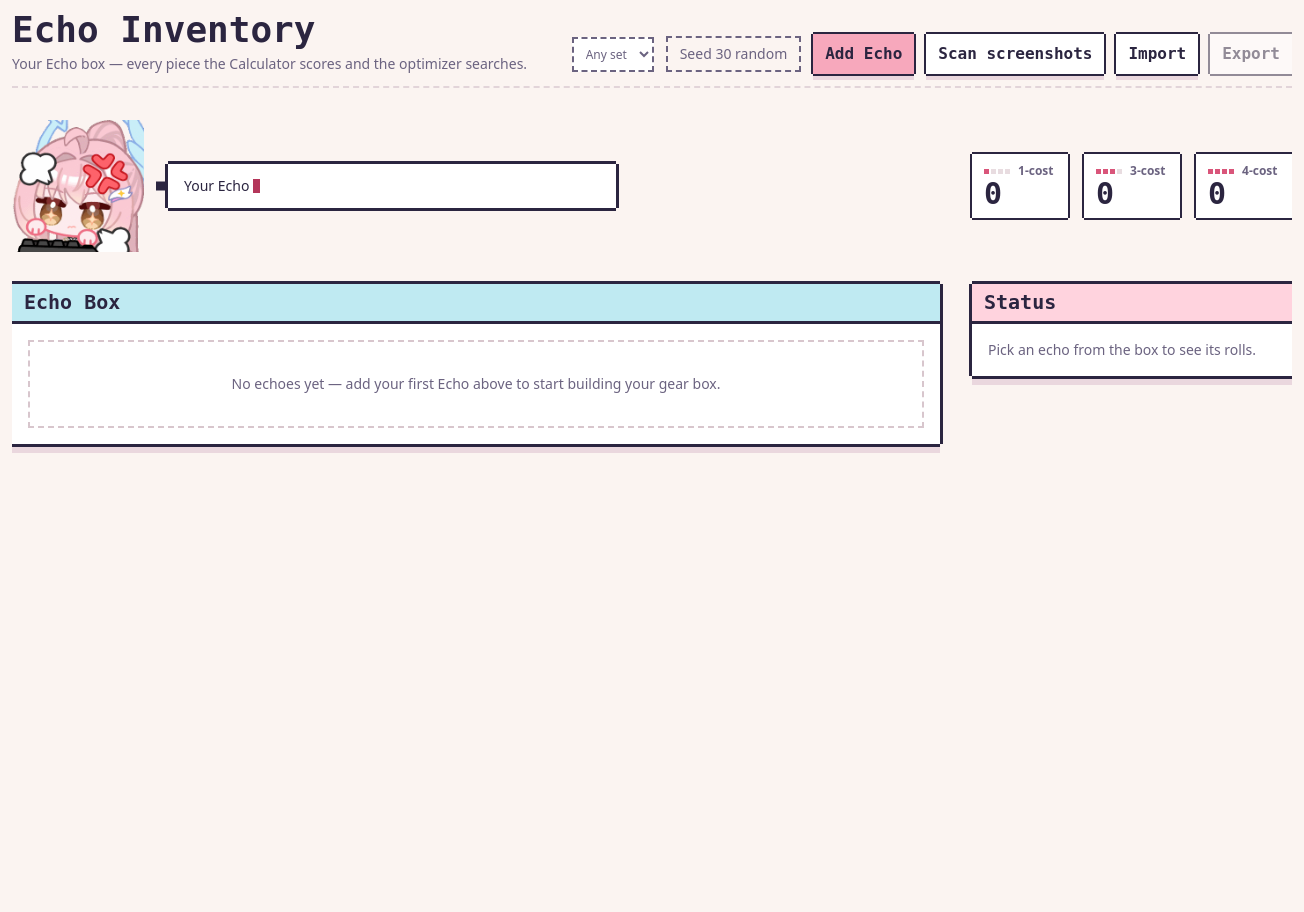
it: InventoryPage › shows errors and writes nothing when no Echo is picked
This screenshot has width=1304, height=912.
Expected: the text "No echoes yet" is shown, x1=232 y1=374 x2=720 y2=393
Click the button "Add Echo" at (864, 54), box x1=813 y1=34 x2=914 y2=74
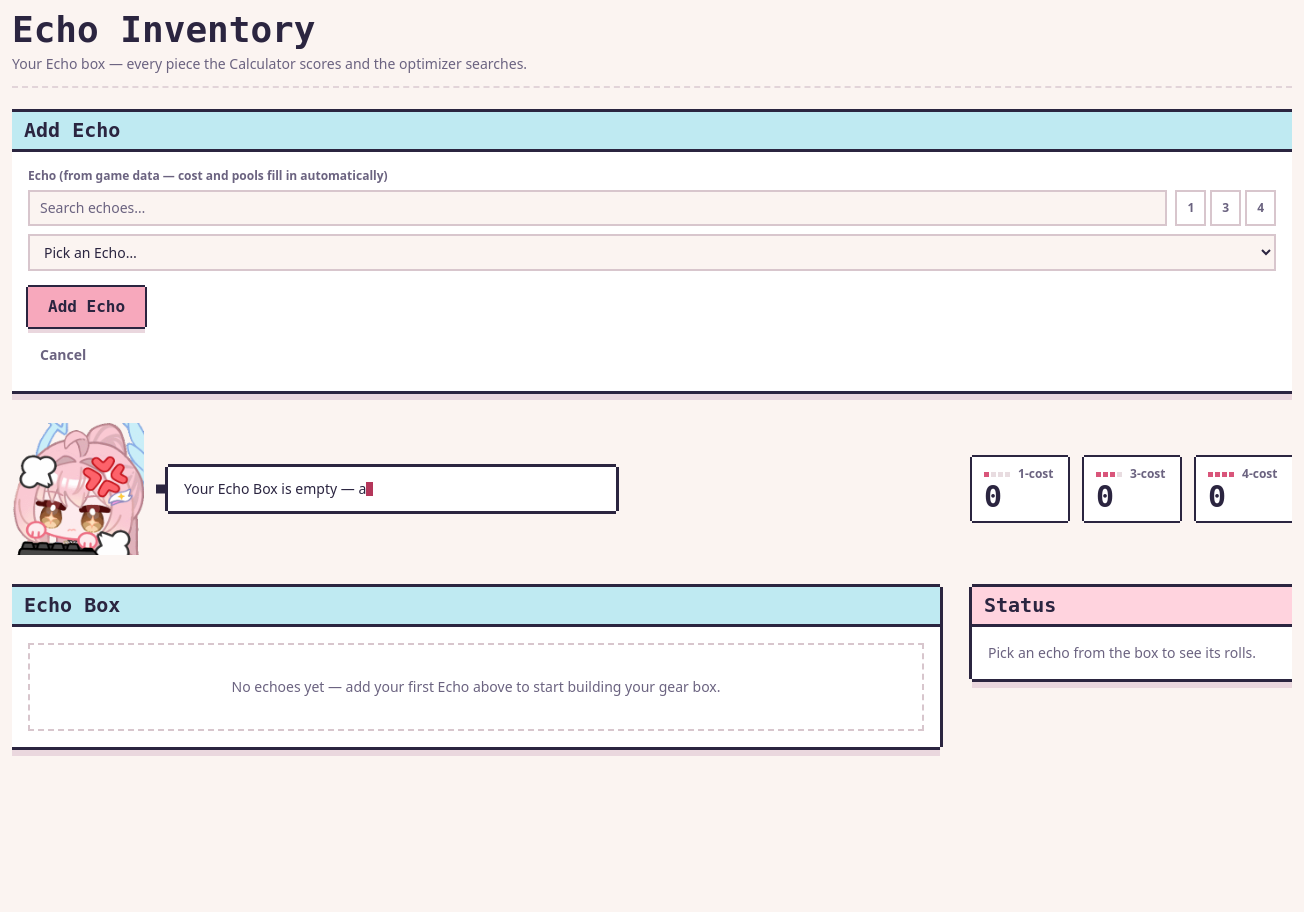
Click the button "Add Echo" at (87, 307), box x1=28 y1=287 x2=145 y2=327
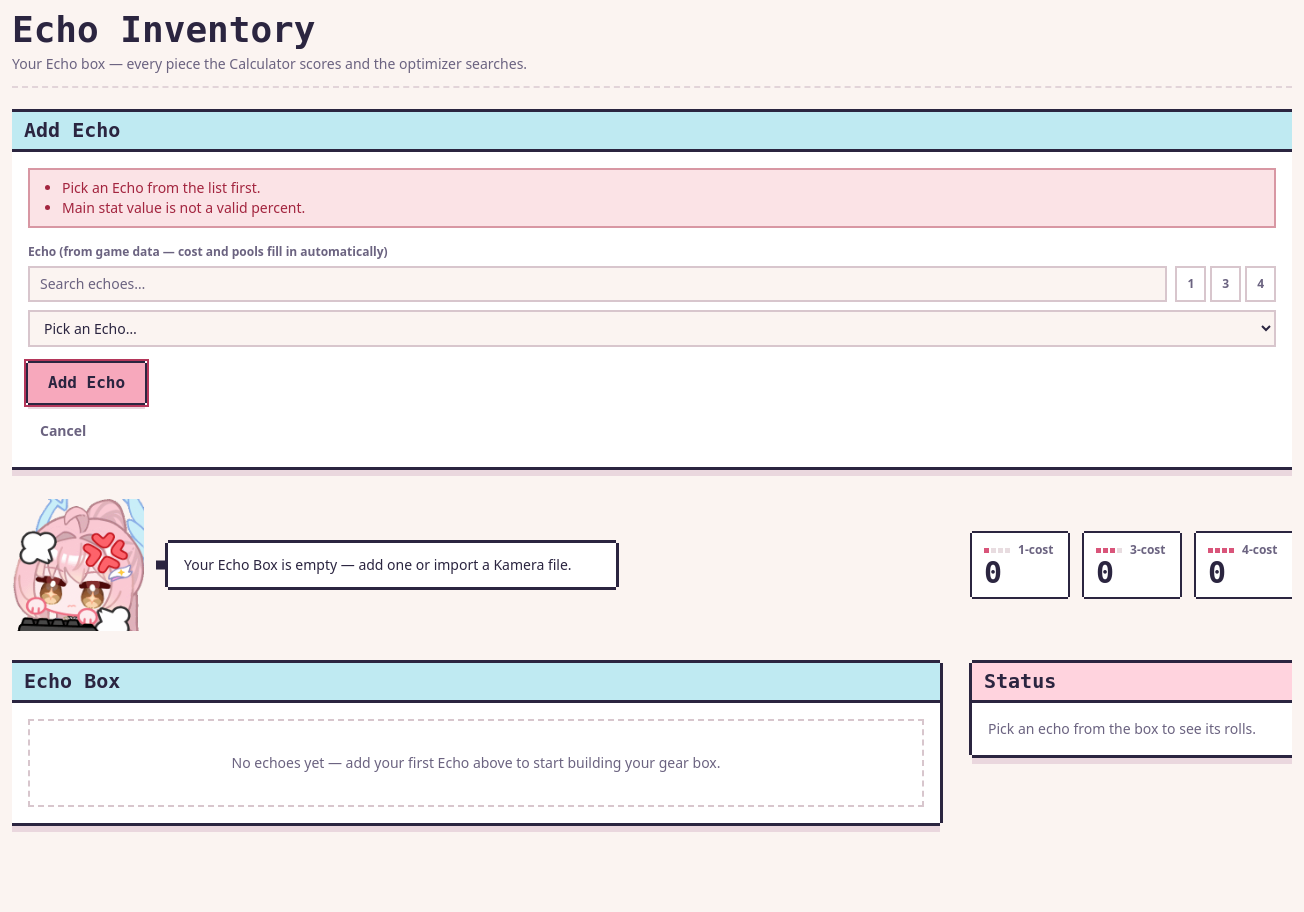
Expected: the message shows "Pick an Echo", x1=62 y1=178 x2=260 y2=197
